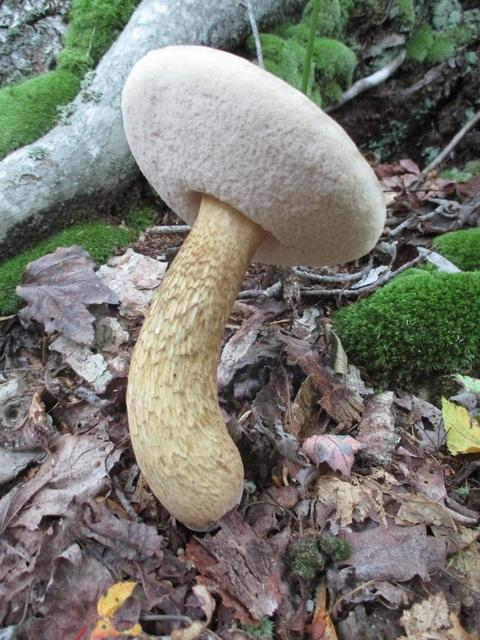Non-edible Mushroom: (119, 42, 387, 532)
